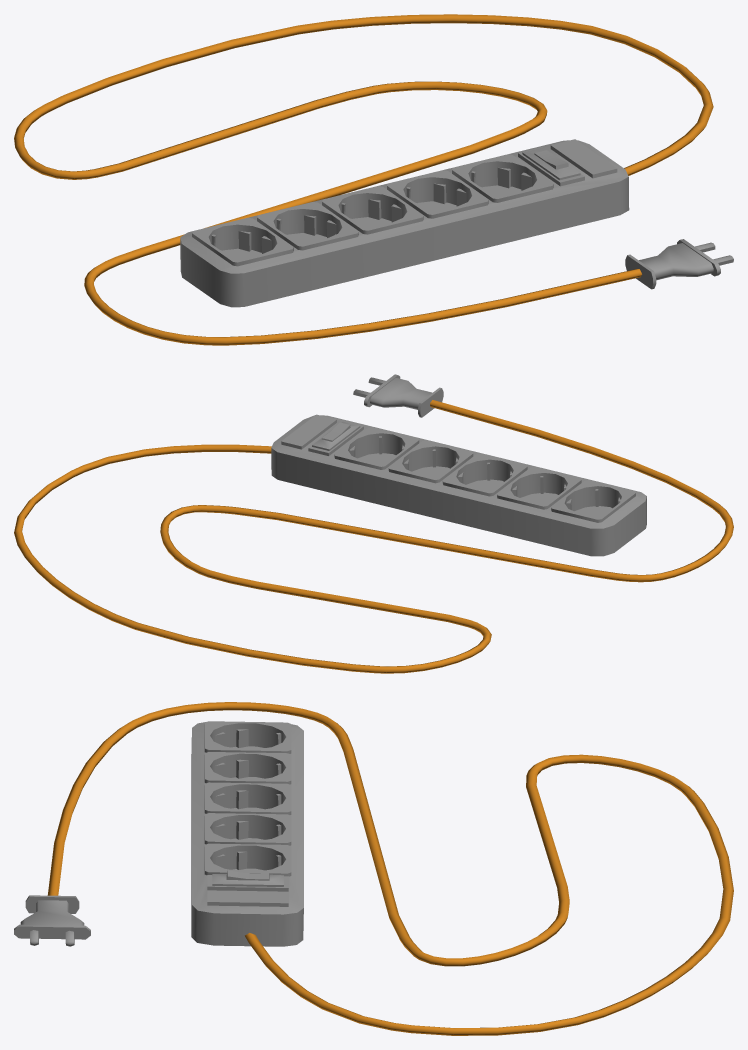
The model's file is SM_NetWorkFilter_01_C.FBX.
3 renders of one model, top to bottom at view 1: azimuth 30°, elevation 25°; view 2: azimuth 150°, elevation 25°; view 3: azimuth 270°, elevation 25°, orthographic. The views are drawn at different scales.
Visible parts, largest first — view 1: SM_NetWorkFilter_01_C; view 2: SM_NetWorkFilter_01_C; view 3: SM_NetWorkFilter_01_C.
Boxes of the visible parts, x1,y1,x2,y2 form: SM_NetWorkFilter_01_C: [14, 14, 733, 345]; SM_NetWorkFilter_01_C: [14, 374, 733, 673]; SM_NetWorkFilter_01_C: [14, 702, 733, 1035].
Size of what is drawn, in the model's own units: 70.14 by 5.44 by 65.59.
